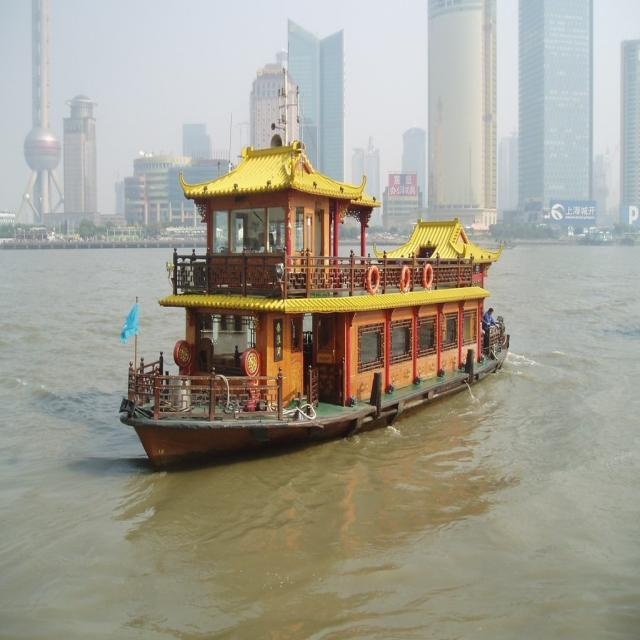boat: (106, 60, 535, 475)
